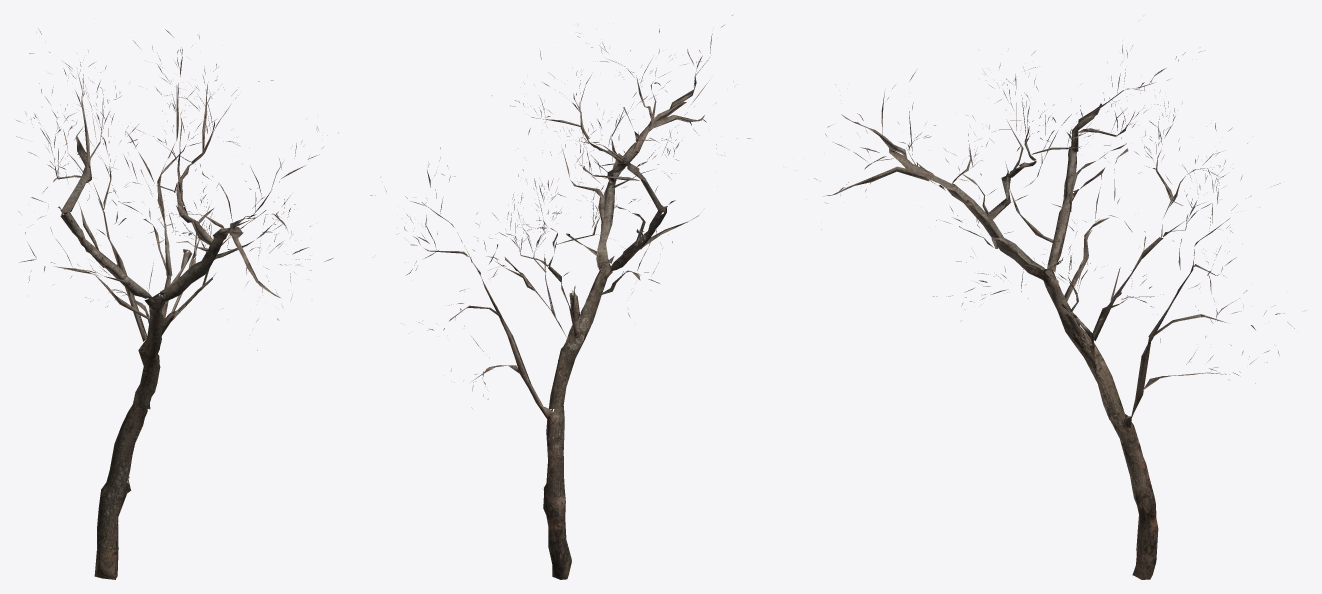
The model's file is tree_small_02_mobile.glb.
3 renders of one model, left to right at view 1: azimuth 30°, elevation 25°; view 2: azimuth 150°, elevation 25°; view 3: azimuth 270°, elevation 25°, orthographic. The views are drawn at different scales.
Parts seen in each view (by area): view 1: tree_geometry; view 2: tree_geometry; view 3: tree_geometry.
Boxes of the visible parts, left/top/right/bottom form: tree_geometry: left=16, top=28, right=338, bottom=579; tree_geometry: left=370, top=14, right=750, bottom=579; tree_geometry: left=814, top=20, right=1305, bottom=579.
Bounding box in the file's own units: 4.12 × 8.11 × 7.27.
2 materials, 2 textured.
